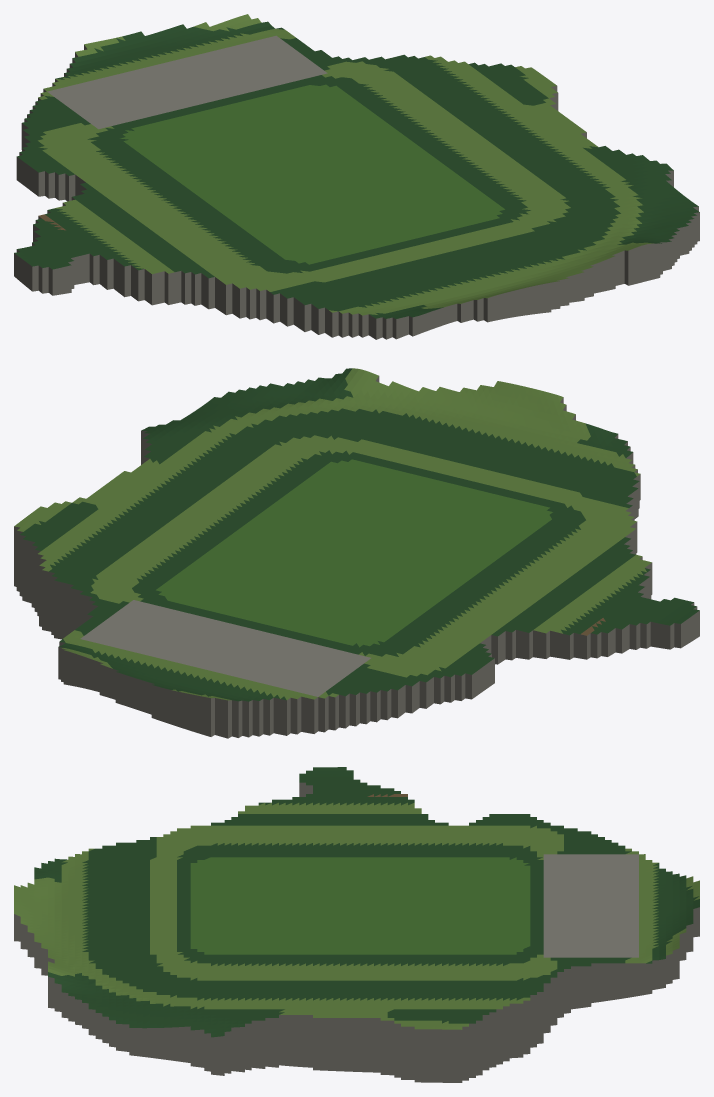
Rendered from stadium-terrain-a09f73.glb.
3 views of the same model, one above another, from view 1: azimuth 30°, elevation 25°; view 2: azimuth 150°, elevation 25°; view 3: azimuth 270°, elevation 25° (orthographic). The views are drawn at different scales.
Visible parts, largest first — view 1: sports-ground; view 2: sports-ground; view 3: sports-ground.
Part boxes in pixels (left/top/right/bottom): sports-ground: left=14, top=14, right=699, bottom=339; sports-ground: left=14, top=368, right=699, bottom=738; sports-ground: left=14, top=767, right=699, bottom=1082.
Bounding box in the file's own units: 92 × 12.39 × 101.
